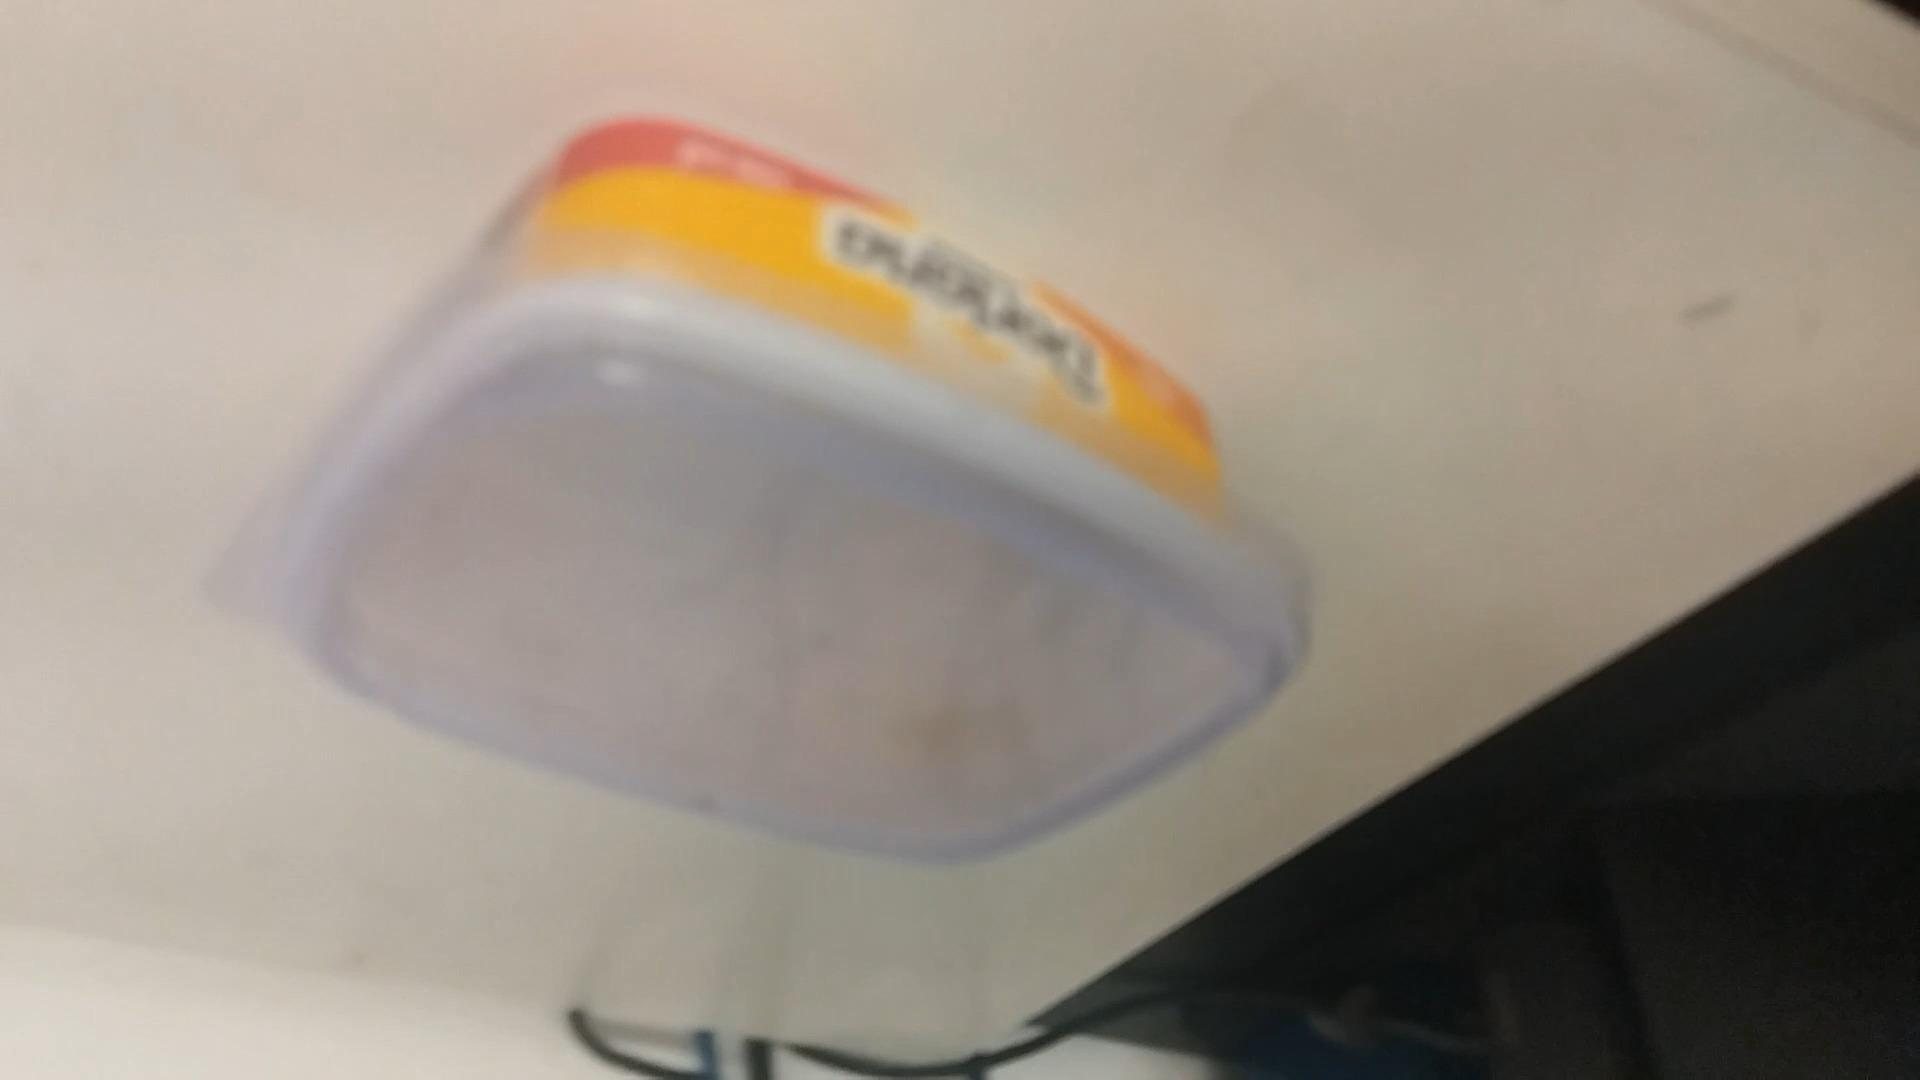butter: (211, 125, 1308, 868)
